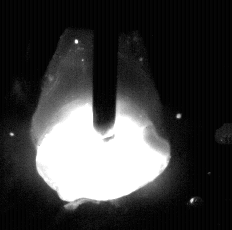arame: (93, 0, 117, 134)
poca: (29, 0, 169, 230)
